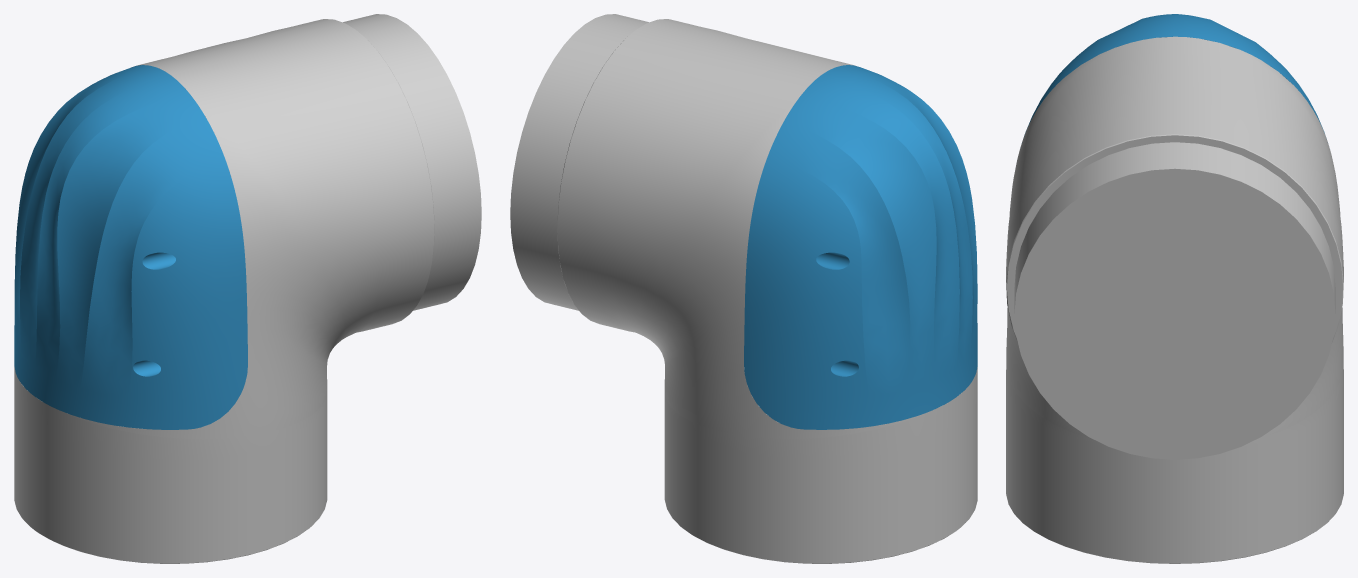
File: NOVA2_J1_ASM.gltf
The picture shows the model from 3 angles, left to right: view 1: azimuth 30°, elevation 25°; view 2: azimuth 150°, elevation 25°; view 3: azimuth 270°, elevation 25°; orthographic projection. The views are drawn at different scales.
Visible parts, largest first — view 1: J1-PART2; view 2: J1-PART2; view 3: J1-PART2.
Part boxes in pixels (<box>): J1-PART2: <box>14,14,481,563</box>; J1-PART2: <box>510,14,977,563</box>; J1-PART2: <box>1006,14,1343,563</box>.
Bounding box in the file's own units: 0.1222 × 0.1326 × 0.089.
